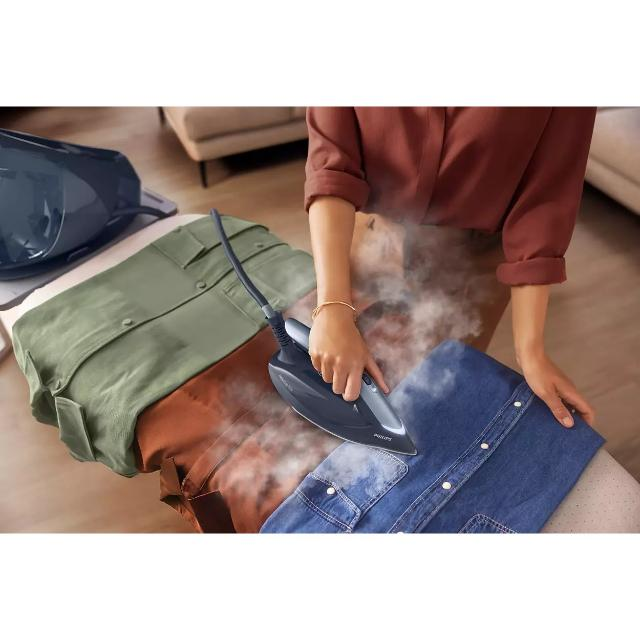Clothes-Iron: (255, 300, 422, 462)
